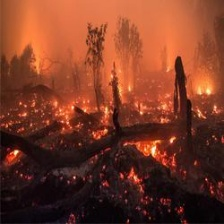fire: (52, 97, 207, 122)
